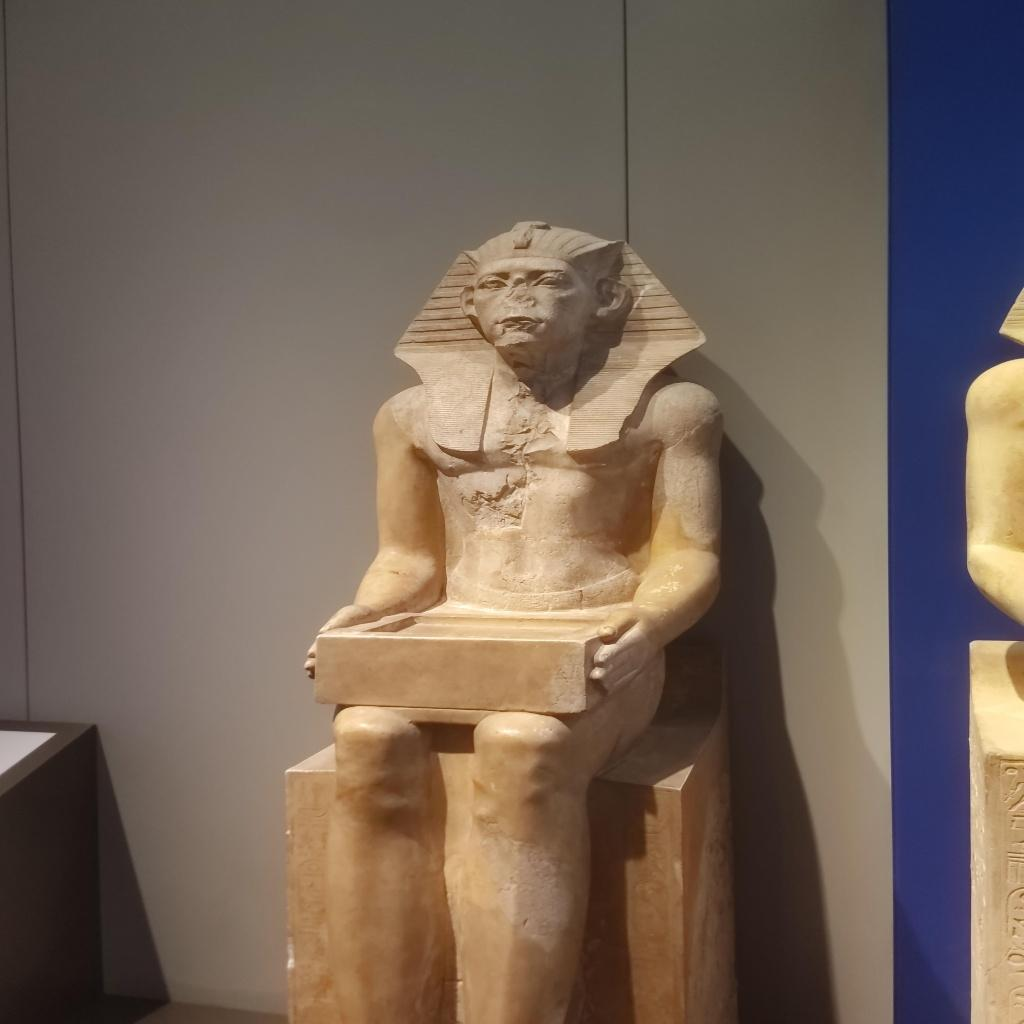Amenhotep III with Plate: (300, 195, 716, 1024)
